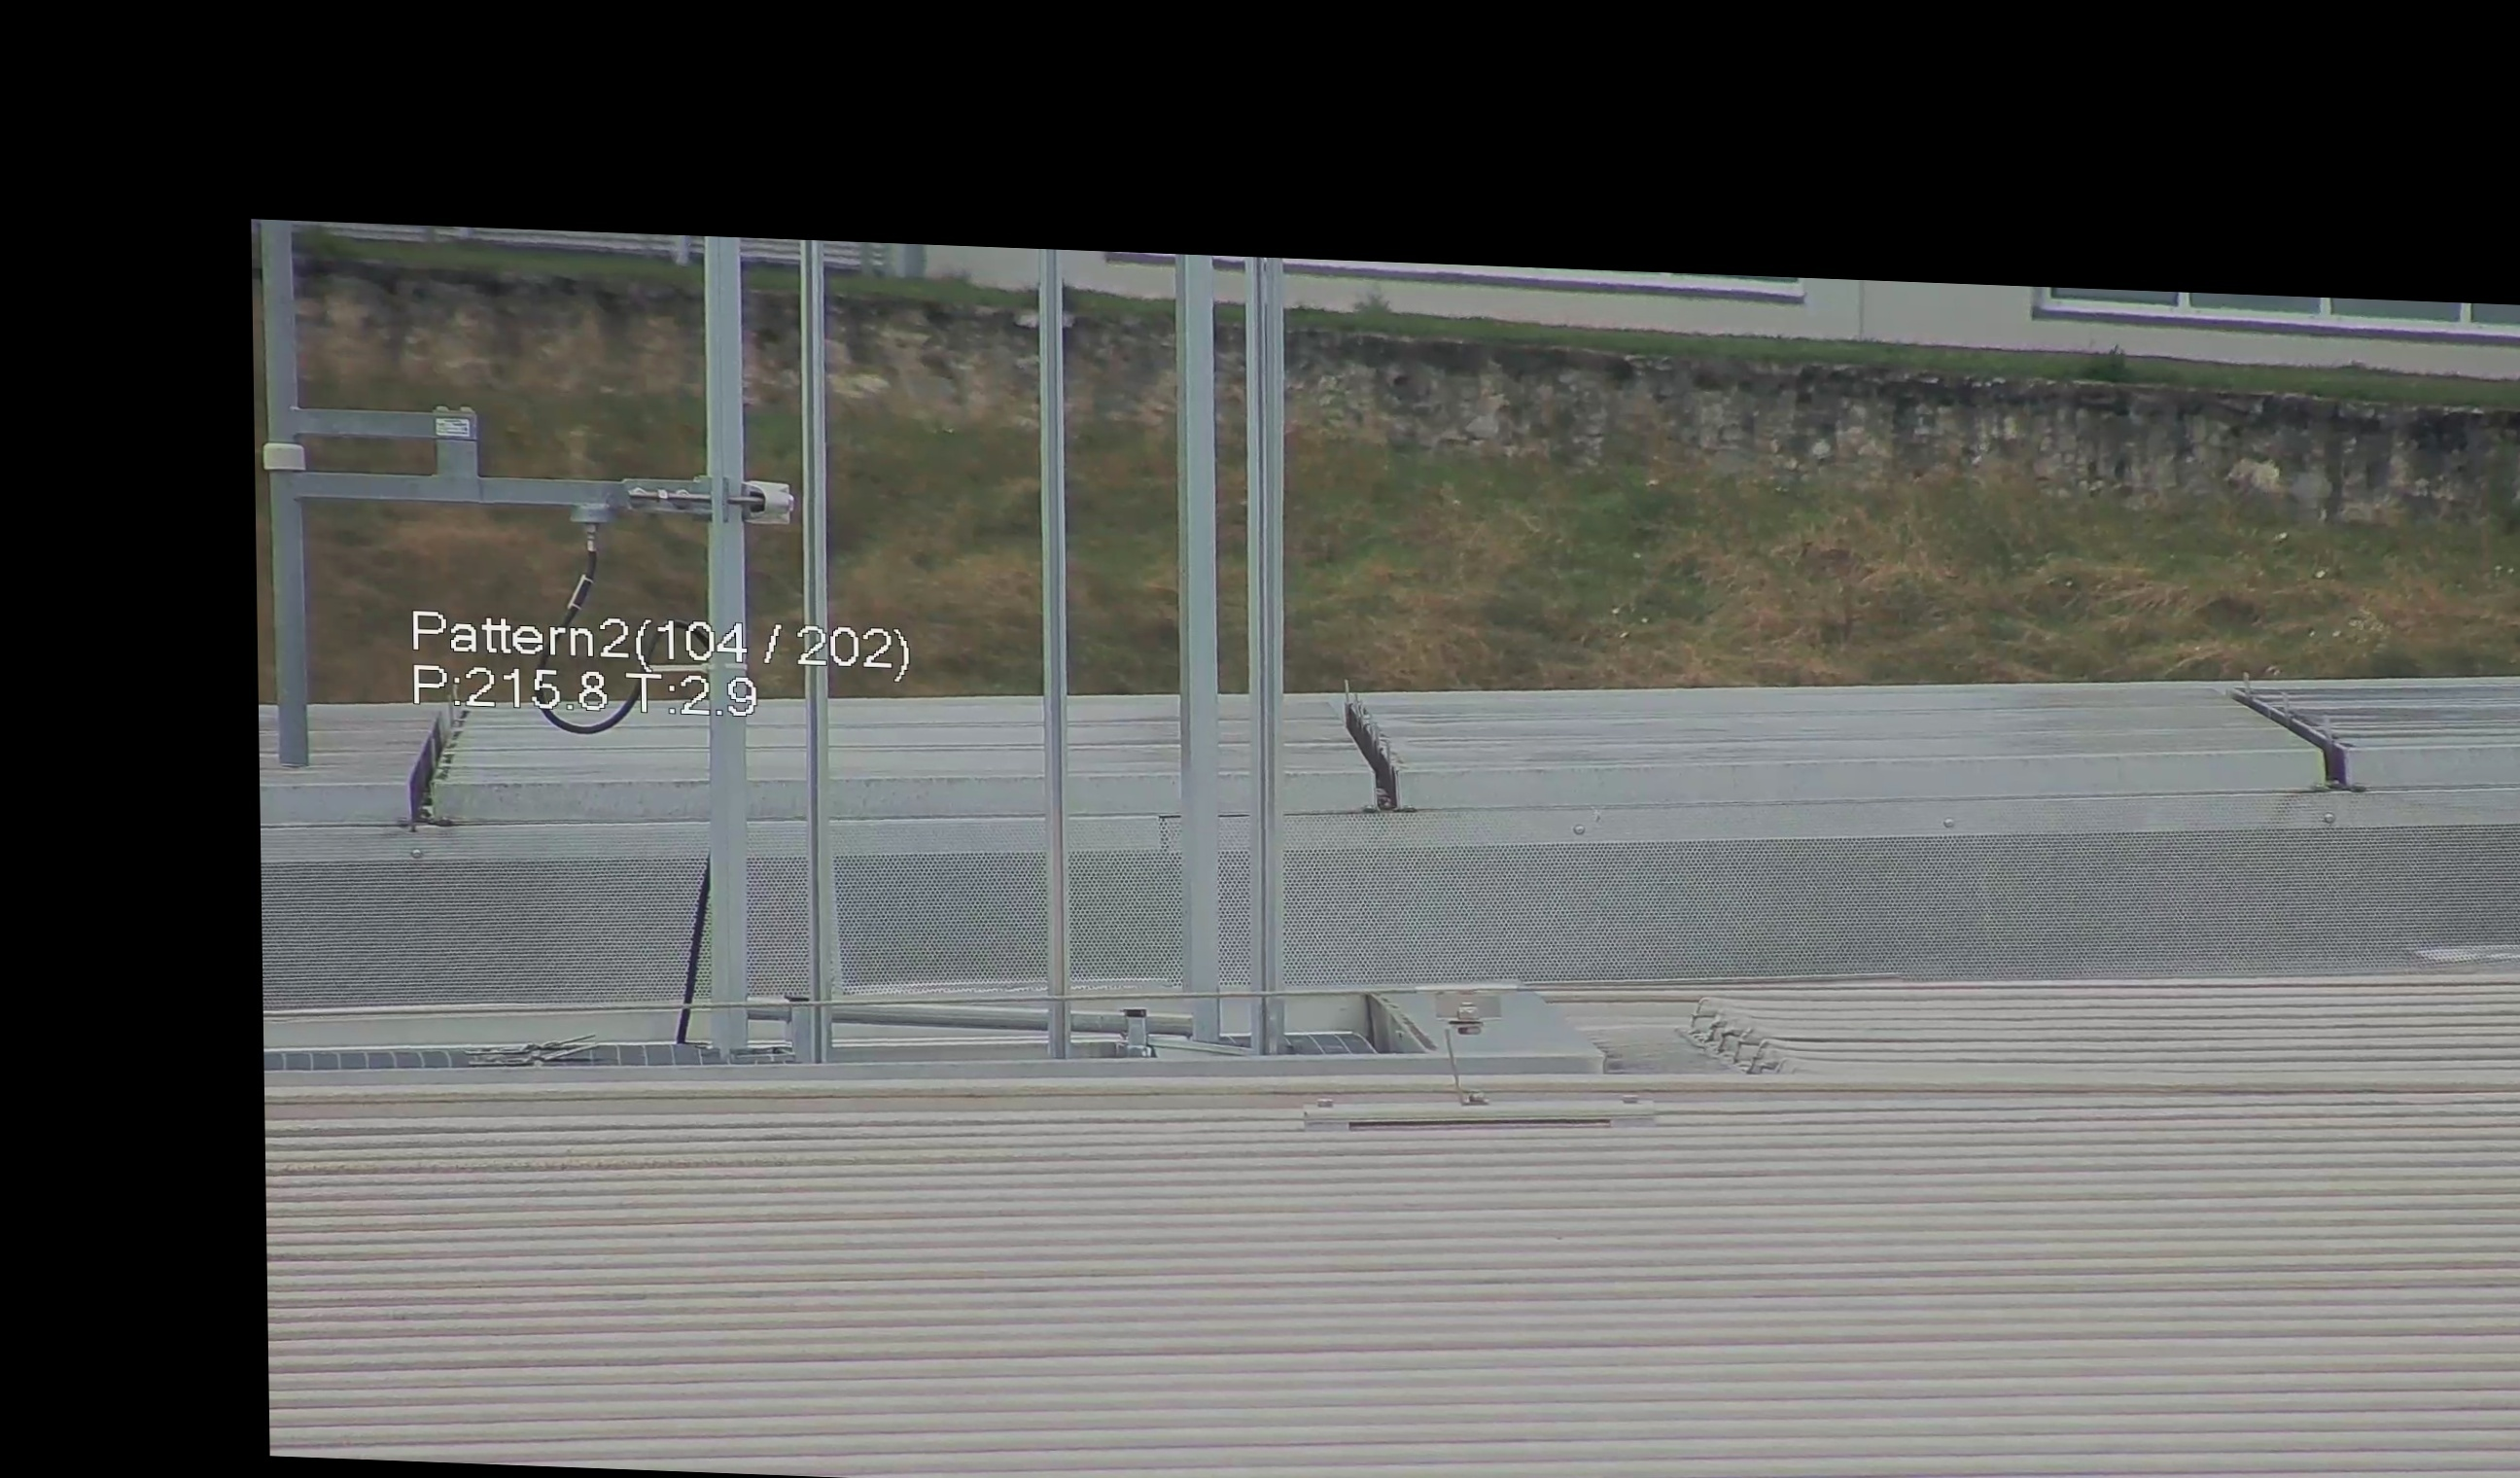Other: (1328, 681, 1421, 815)
